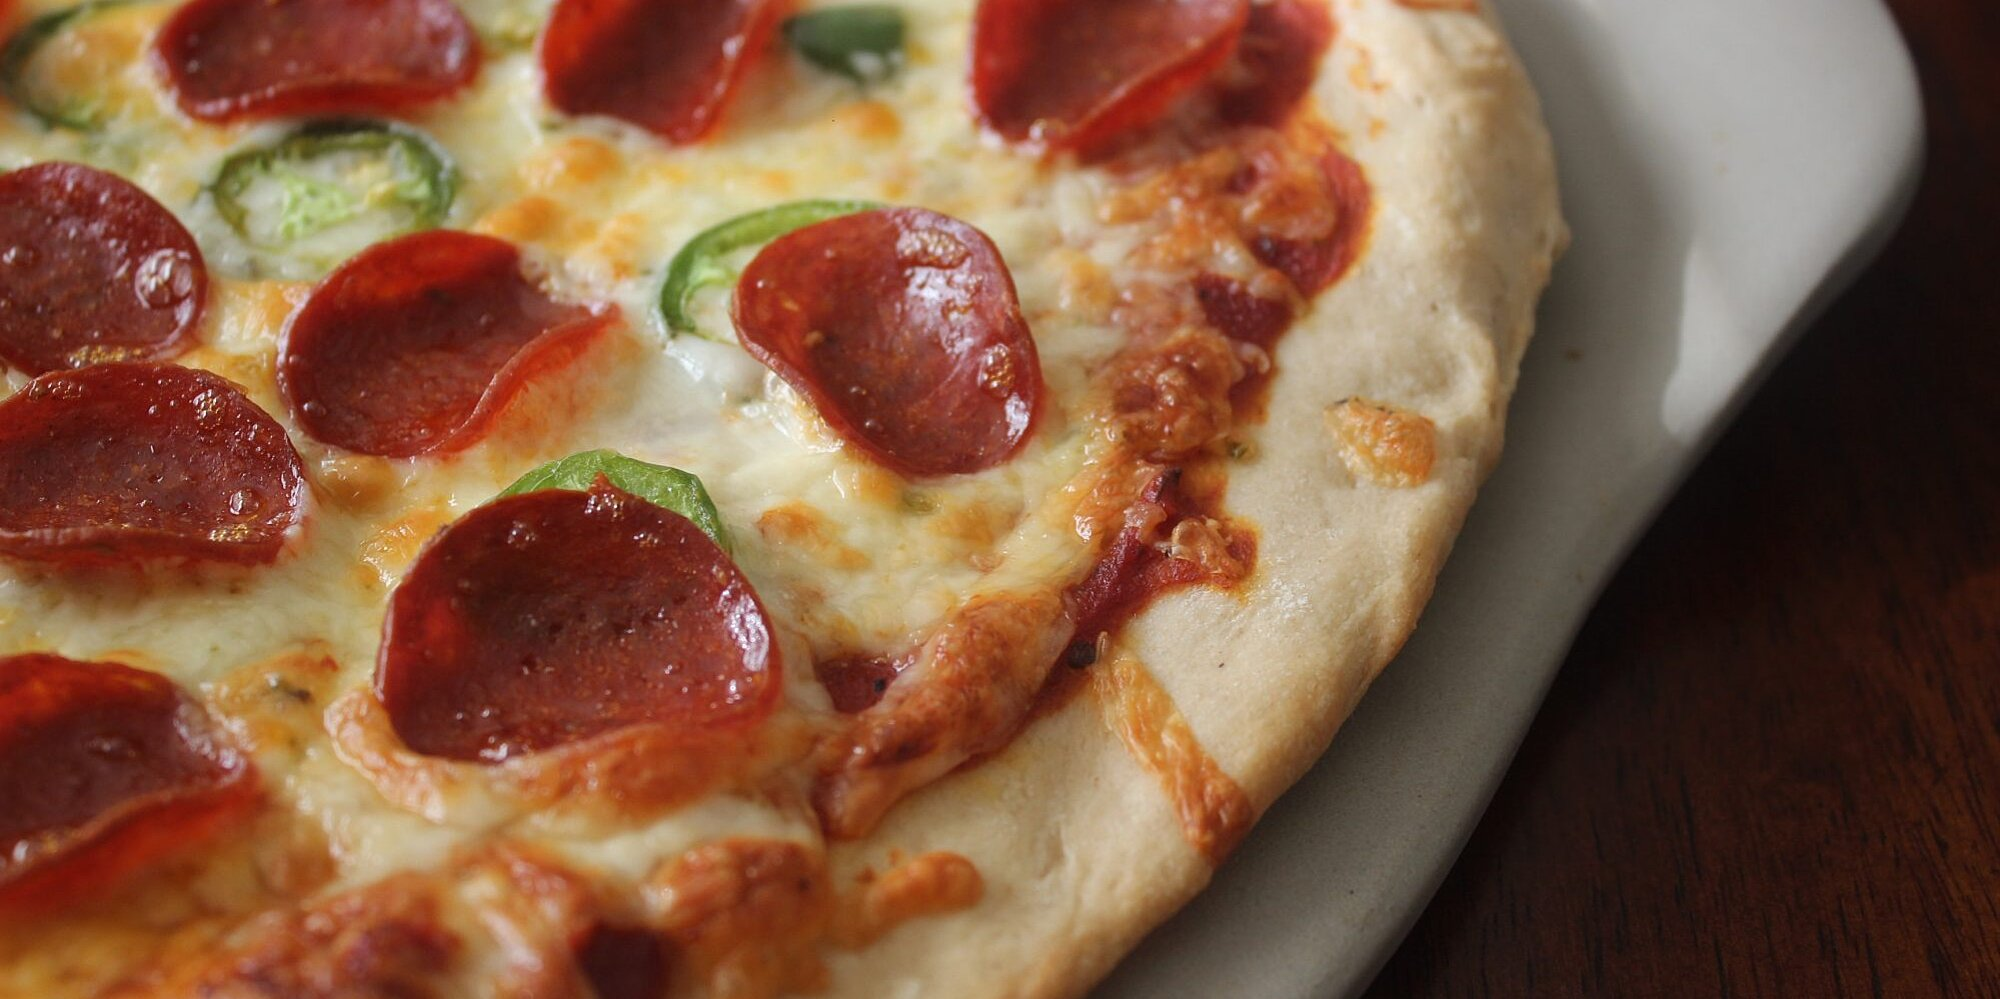pizza: (8, 3, 1548, 999)
